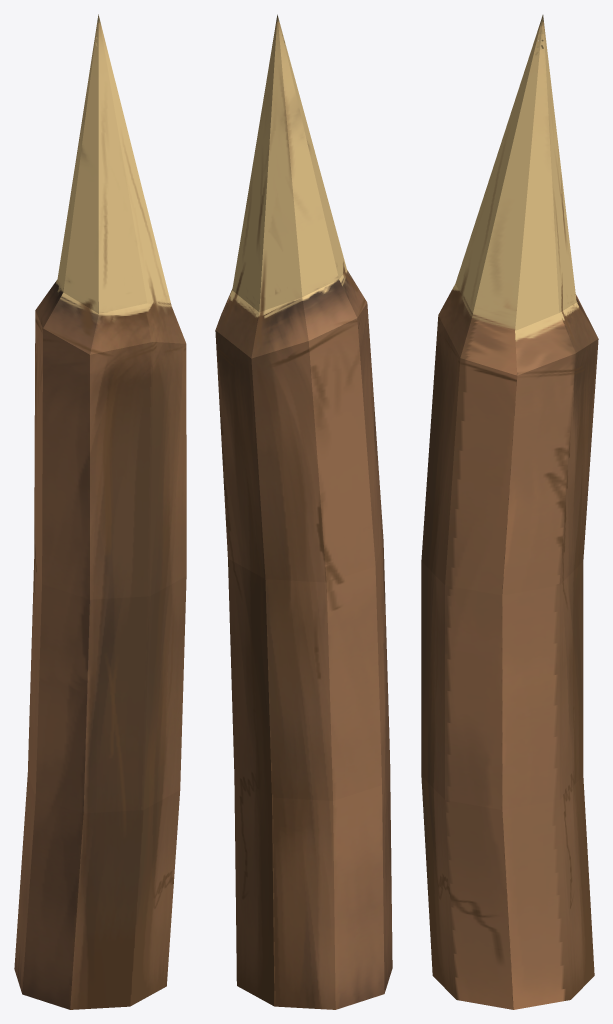
Rendered from spike.fbx.
The picture shows the model from 3 angles, left to right: view 1: azimuth 30°, elevation 25°; view 2: azimuth 150°, elevation 25°; view 3: azimuth 270°, elevation 25°; orthographic projection. The views are drawn at different scales.
Visible parts, largest first — view 1: Spike; view 2: Spike; view 3: Spike.
Boxes of the visible parts, x1,y1,x2,y2 form: Spike: (14, 14, 186, 1009); Spike: (215, 14, 392, 1009); Spike: (421, 15, 598, 1009).
Size of the model in its own units: 76.33 by 438 by 72.23.
1 material, 1 textured.
